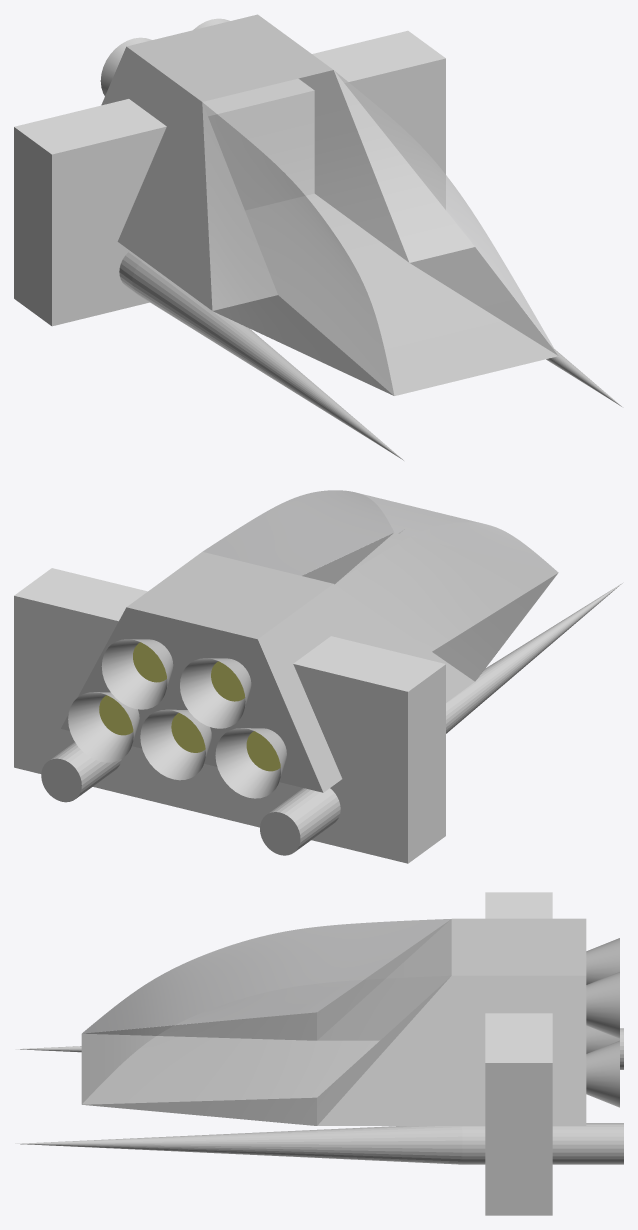
File: StartingShuttle.fbx
3 views of the same model, one above another, from view 1: azimuth 30°, elevation 25°; view 2: azimuth 150°, elevation 25°; view 3: azimuth 270°, elevation 25° (orthographic). The views are drawn at different scales.
Visible parts, largest first — view 1: Window, Doorway, Hull, Floor, Guns, Engine.003; view 2: Doorway, Window, Hull, Floor, Guns, Engine.003, Engine.004, Engine.002, Engine, Engine.001; view 3: Window, Hull, Floor, Doorway, Guns, Engine.001, Engine.004, Engine.003, Engine.
Part boxes in pixels (x1,y1,x2,y2): Window: [202, 70, 558, 395]; Doorway: [14, 30, 445, 326]; Hull: [101, 14, 474, 310]; Floor: [213, 193, 557, 395]; Guns: [119, 251, 623, 460]; Engine.003: [100, 37, 151, 95]; Doorway: [14, 568, 445, 863]; Window: [202, 490, 558, 681]; Hull: [61, 552, 474, 792]; Floor: [302, 532, 557, 681]; Guns: [41, 531, 623, 855]; Engine.003: [180, 658, 251, 728]; Engine.004: [101, 639, 173, 709]; Engine.002: [215, 728, 286, 798]; Engine: [140, 709, 211, 780]; Engine.001: [68, 692, 139, 762]; Window: [81, 919, 451, 1125]; Hull: [317, 918, 586, 1125]; Floor: [81, 1012, 379, 1125]; Doorway: [485, 892, 552, 1215]; Guns: [15, 1028, 623, 1164]; Engine.001: [586, 1040, 619, 1107]; Engine.004: [586, 972, 619, 1038]; Engine.003: [586, 938, 619, 984]; Engine: [586, 1025, 619, 1053].
Bounding box in the file's own units: 600 × 906 × 300.
